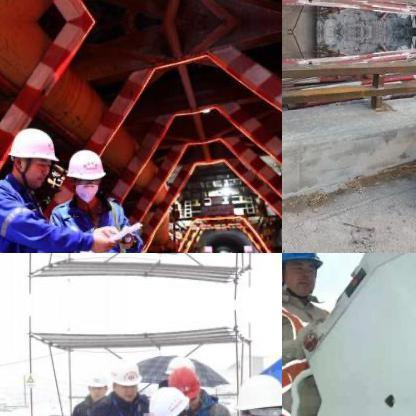Helmet: (6, 124, 58, 188), (232, 369, 281, 415), (63, 146, 105, 198), (282, 253, 328, 299), (145, 376, 194, 415), (166, 361, 204, 409), (110, 358, 140, 398), (82, 366, 112, 402)
